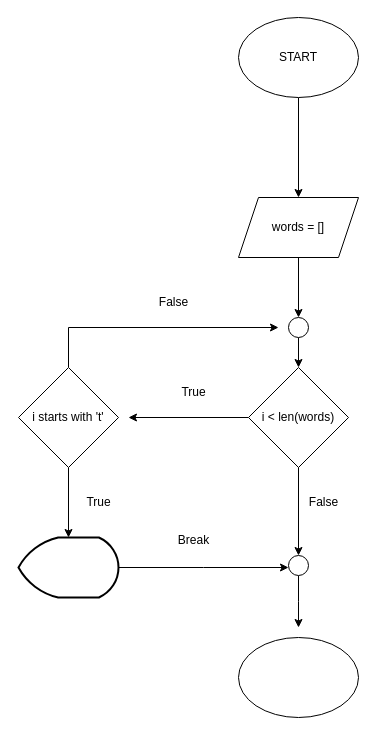
The diagram is 376 pixels wide and 735 high, and some of its shapes have lost their labels. The shapes that lost their labels are listed below. From the top down, each one's box as (x1, y1, x2, y2) in pixels, then its label:
(17, 536, 119, 598): print words[I]
(238, 636, 358, 718): END
